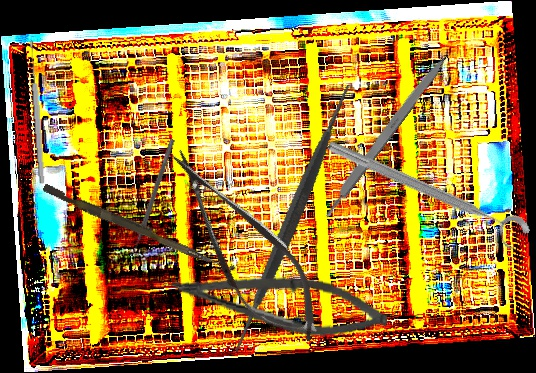Fixation Ring: (319, 134, 533, 256)
Micro Scissor: (145, 130, 341, 362), (167, 264, 391, 345)
Pusher: (40, 183, 224, 268)
Scalpel Handle: (317, 49, 452, 222)
Spatula Surgical: (151, 79, 432, 359), (126, 136, 176, 257)
Surgical Spoon: (27, 39, 47, 185)
